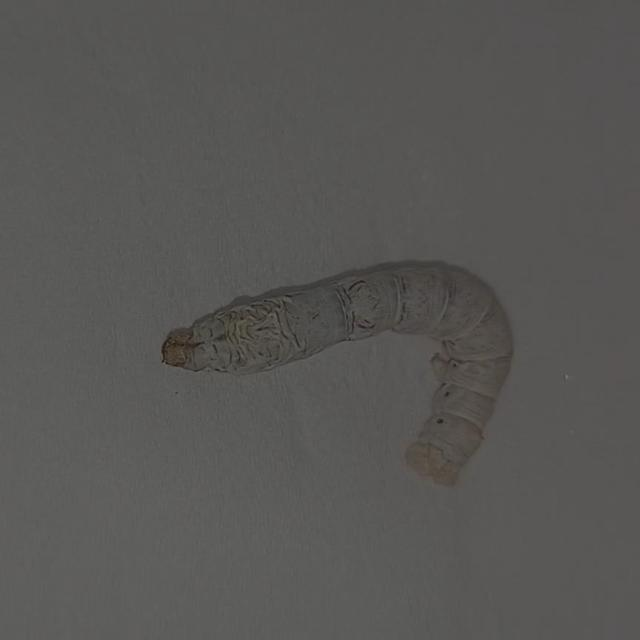Healthy: (142, 230, 540, 508)
